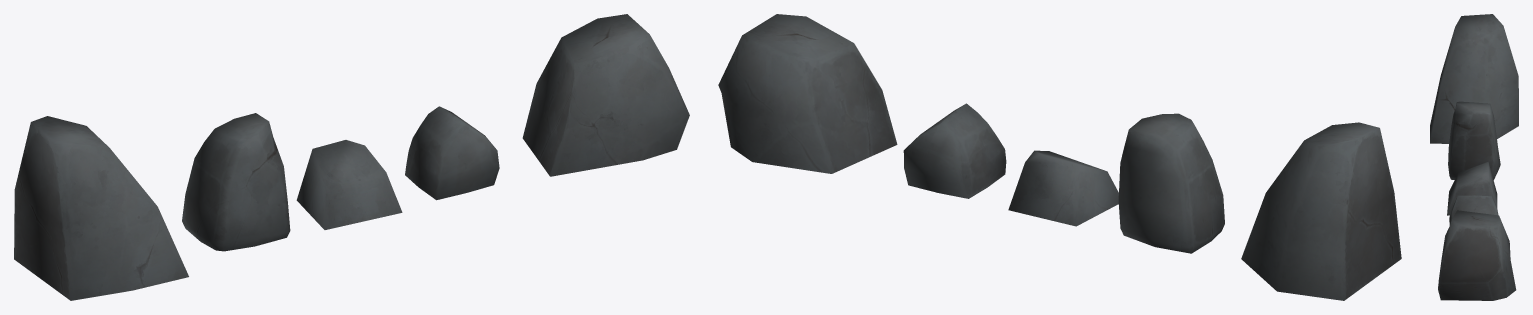
The model's file is rocks.glb.
3 views of the same model, side by side, from view 1: azimuth 30°, elevation 25°; view 2: azimuth 150°, elevation 25°; view 3: azimuth 270°, elevation 25° (orthographic). The views are drawn at different scales.
Parts seen in each view (by area): view 1: SM_Rock_05, SM_Rock_04, SM_Rock_03, SM_Rock_01, SM_Rock_02; view 2: SM_Rock_04, SM_Rock_05, SM_Rock_03, SM_Rock_02, SM_Rock_01; view 3: SM_Rock_05, SM_Rock_04, SM_Rock_03, SM_Rock_01, SM_Rock_02.
Part boxes in pixels (left/top/right/bottom): SM_Rock_05: left=14, top=116, right=188, bottom=300; SM_Rock_04: left=522, top=14, right=689, bottom=176; SM_Rock_03: left=182, top=113, right=290, bottom=251; SM_Rock_01: left=296, top=140, right=402, bottom=229; SM_Rock_02: left=405, top=106, right=499, bottom=200; SM_Rock_04: left=718, top=14, right=897, bottom=173; SM_Rock_05: left=1241, top=122, right=1401, bottom=300; SM_Rock_03: left=1118, top=113, right=1224, bottom=253; SM_Rock_02: left=903, top=103, right=1006, bottom=198; SM_Rock_01: left=1008, top=150, right=1118, bottom=226; SM_Rock_05: left=1430, top=14, right=1518, bottom=143; SM_Rock_04: left=1438, top=210, right=1516, bottom=300; SM_Rock_03: left=1448, top=101, right=1500, bottom=179; SM_Rock_01: left=1447, top=162, right=1497, bottom=215; SM_Rock_02: left=1449, top=195, right=1498, bottom=225.
Size of the model in its own units: 4.54 by 1.02 by 0.8636.
5 materials, 5 textured.
